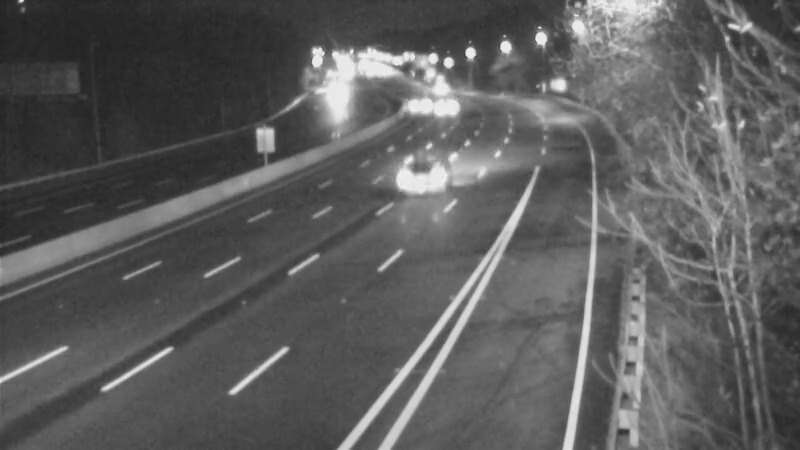vehicle: (404, 129, 484, 209), (419, 76, 469, 126), (382, 86, 432, 136), (312, 66, 362, 116)
